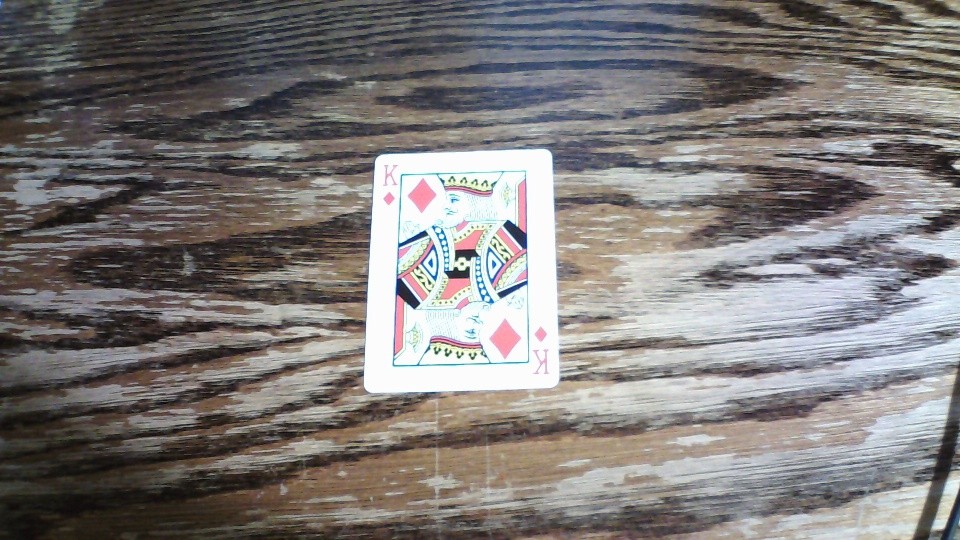king: (362, 149, 560, 389)
